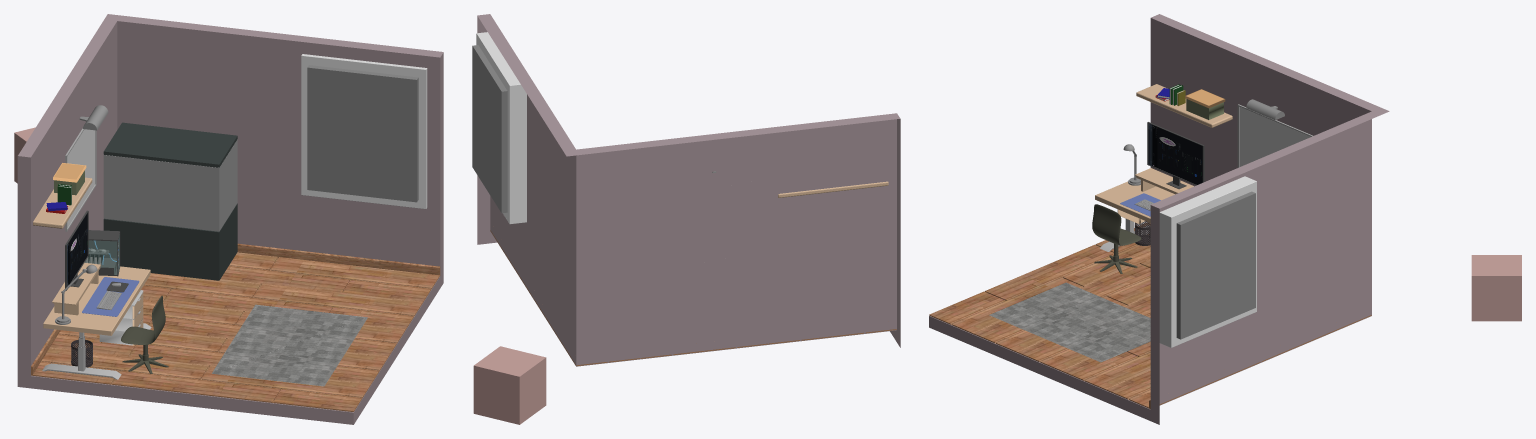
File: threeJSroom(2.0.4).glb
The picture shows the model from 3 angles, left to right: view 1: azimuth 30°, elevation 25°; view 2: azimuth 150°, elevation 25°; view 3: azimuth 270°, elevation 25°; orthographic projection. The views are drawn at different scales.
Visible parts, largest first — view 1: floor, aquarium, window, table, computer, Shelves, Light, screen, chair, trashbin, Cube; view 2: floor, window, Cube, Shelves; view 3: floor, window, Cube, Light, screen, table, Shelves, chair, trashbin, computer.
Boxes of the visible parts, <box> form: floor: <box>17,14,443,424</box>; aquarium: <box>103,122,237,280</box>; window: <box>301,54,427,209</box>; table: <box>42,262,151,379</box>; computer: <box>55,230,139,324</box>; Shelves: <box>33,163,92,228</box>; Light: <box>65,105,108,231</box>; screen: <box>65,210,88,290</box>; chair: <box>121,295,165,344</box>; trashbin: <box>71,339,168,373</box>; Cube: <box>14,127,35,183</box>; floor: <box>477,14,900,366</box>; window: <box>472,32,526,224</box>; Cube: <box>473,346,546,424</box>; Shelves: <box>778,181,888,197</box>; floor: <box>929,14,1389,424</box>; window: <box>1159,176,1256,347</box>; Cube: <box>1471,255,1521,321</box>; Light: <box>1237,99,1312,167</box>; screen: <box>1147,122,1204,189</box>; table: <box>1095,168,1193,251</box>; Shelves: <box>1136,84,1232,127</box>; chair: <box>1092,204,1141,245</box>; trashbin: <box>1094,221,1150,273</box>; computer: <box>1120,144,1215,216</box>.
Size of the model in its own units: 18.41 by 9.53 by 23.67.
43 materials, 4 textured.
